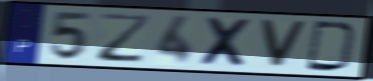4: (152, 13, 196, 68)
5: (48, 9, 94, 61)
D: (304, 19, 360, 74)
V: (258, 18, 310, 71)
X: (197, 15, 256, 70)
Z: (96, 12, 154, 65)
